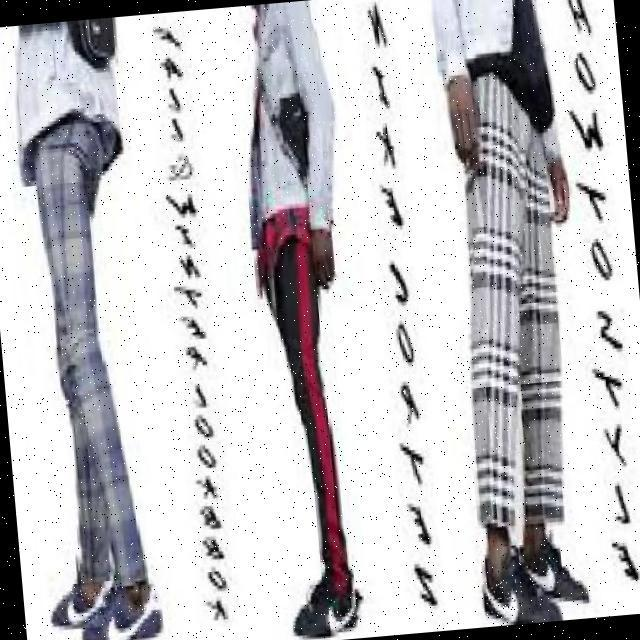Nike: (103, 599, 151, 640), (485, 578, 524, 619), (65, 588, 107, 622), (327, 596, 361, 637), (524, 556, 560, 589)
